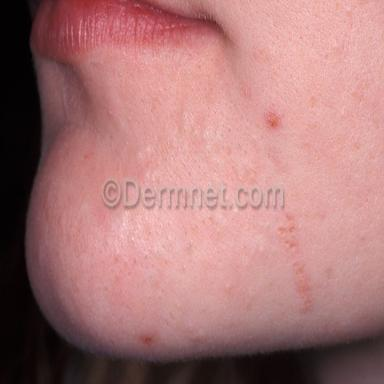acne: (266, 112, 280, 128), (140, 335, 153, 345)
